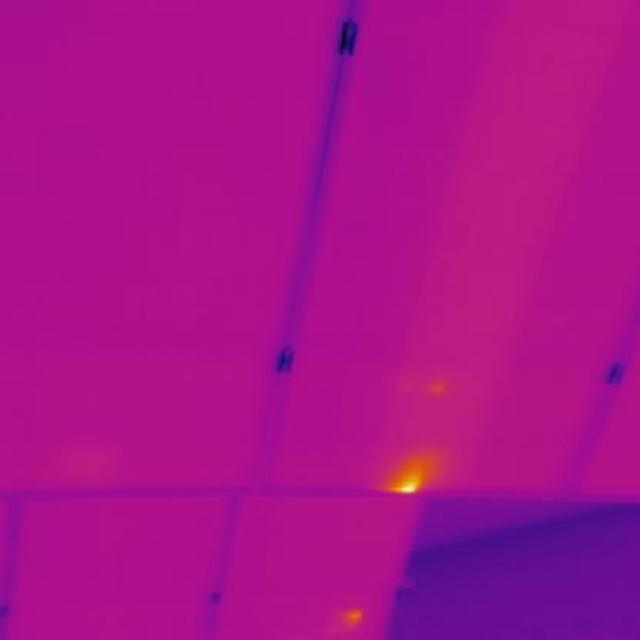hotspot: (376, 446, 444, 494)
